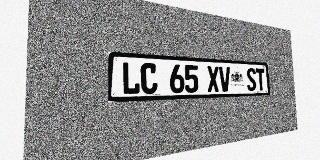5: (184, 65, 199, 93)
6: (170, 64, 185, 93)
C: (140, 63, 158, 94)
L: (122, 62, 140, 95)
S: (246, 68, 257, 91)
T: (256, 68, 265, 91)
V: (219, 66, 231, 92)
X: (207, 66, 219, 92)
